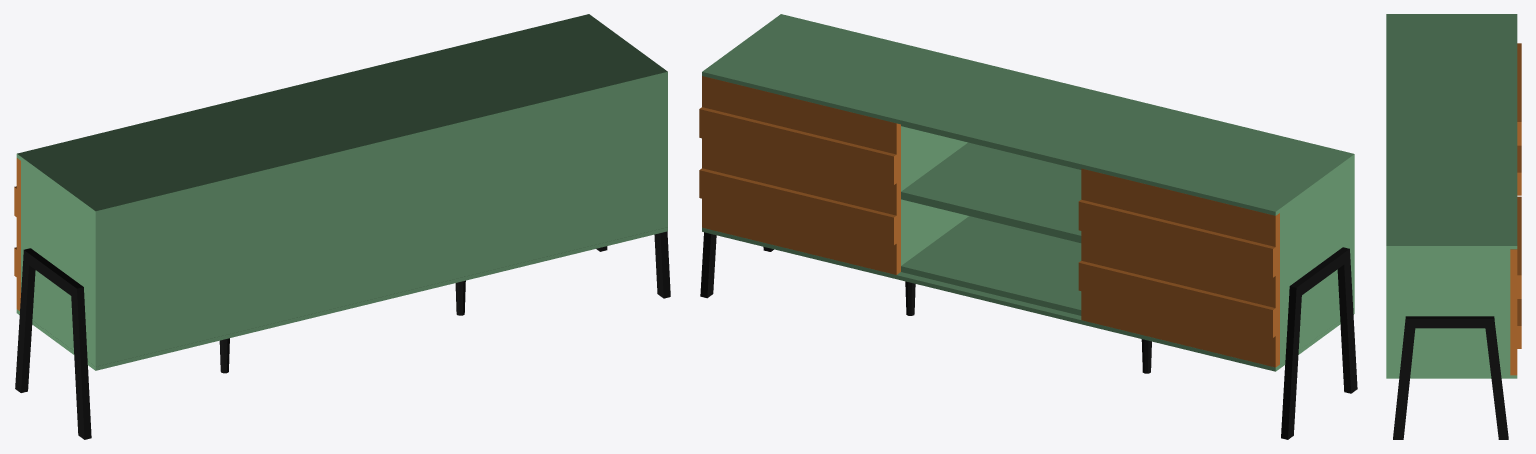
The model's file is TV Cabinet.fbx.
3 renders of one model, left to right at view 1: azimuth 30°, elevation 25°; view 2: azimuth 150°, elevation 25°; view 3: azimuth 270°, elevation 25°, orthographic. The views are drawn at different scales.
Visible parts, largest first — view 1: Node 0, Node 1; view 2: Node 0, Node 1, Node 2; view 3: Node 0, Node 2, Node 1.
Boxes of the visible parts, box(x1,y1,x2,y2) form: Node 0: box(15, 14, 670, 439); Node 1: box(14, 158, 20, 310); Node 0: box(700, 14, 1357, 439); Node 1: box(1078, 168, 1279, 367); Node 2: box(699, 76, 900, 274); Node 0: box(1386, 14, 1517, 439); Node 2: box(1510, 196, 1521, 375); Node 1: box(1517, 43, 1521, 195).
Bounding box in the file's own units: 0.5735 × 0.8932 × 2.38.
